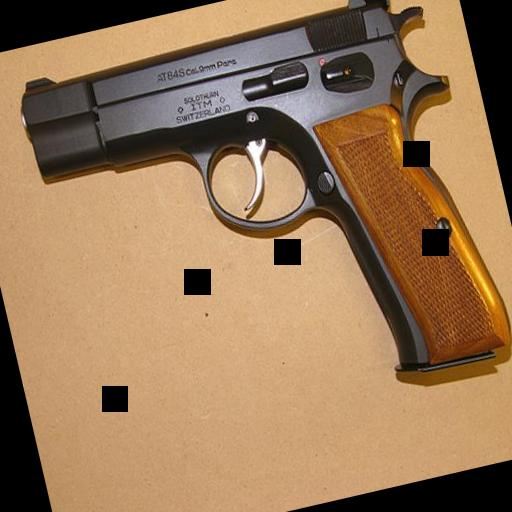Handgun: (7, 0, 512, 450)
